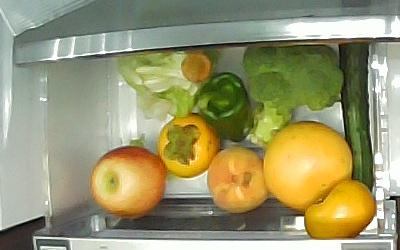apple: (89, 145, 166, 215)
broccoli: (240, 43, 346, 150)
cucumber: (337, 44, 373, 191)
grapefruit: (263, 121, 353, 211)
lettuce: (117, 49, 214, 118)
paprika: (195, 72, 253, 142)
peach: (207, 146, 267, 212)
persimmon: (304, 178, 377, 239), (157, 116, 221, 178)
